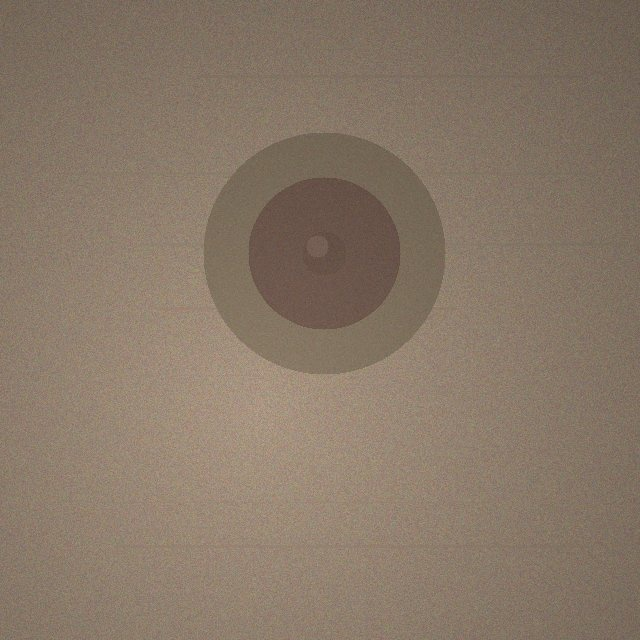good: (203, 132, 445, 374)
